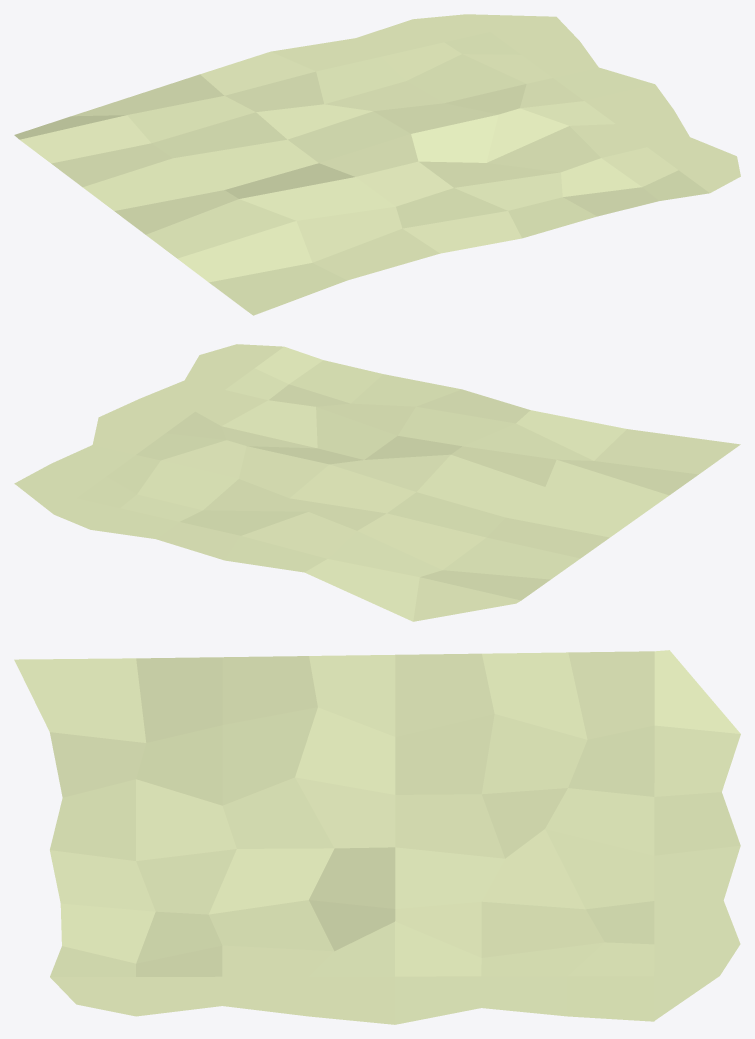
File: Paper_info.fbx
3 views of the same model, one above another, from view 1: azimuth 30°, elevation 25°; view 2: azimuth 150°, elevation 25°; view 3: azimuth 270°, elevation 25° (orthographic). The views are drawn at different scales.
Parts seen in each view (by area): view 1: Plane; view 2: Plane; view 3: Plane.
Boxes of the visible parts, x1,y1,x2,y2 form: Plane: [14, 14, 740, 315]; Plane: [14, 344, 740, 621]; Plane: [14, 650, 740, 1024].
Bounding box in the file's own units: 33.97 × 1.69 × 28.72.
